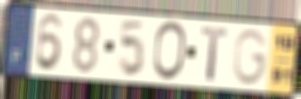5: (115, 18, 148, 78)
6: (33, 11, 65, 73)
8: (70, 15, 104, 76)
G: (232, 28, 271, 87)
O: (151, 20, 188, 83)
T: (199, 26, 230, 84)
